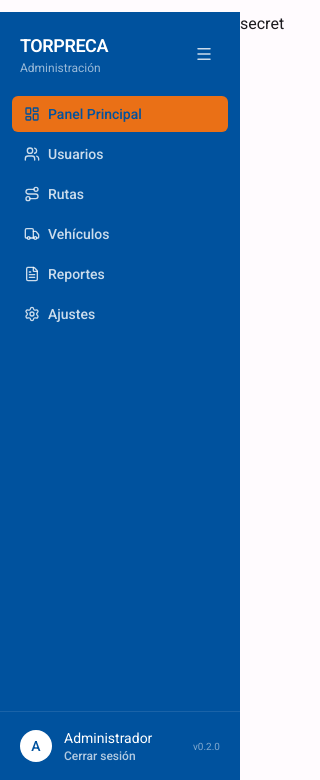
Test: ProtectedLayout › collapses the sidebar to icon-only when the toggle is clicked
Expected: the text "secret" is shown, [240, 14, 284, 33]
Expected: the text "TORPRECA" is shown, [20, 32, 108, 60]
Click the button named "Colapsar menú" at (204, 54), box [188, 38, 220, 70]
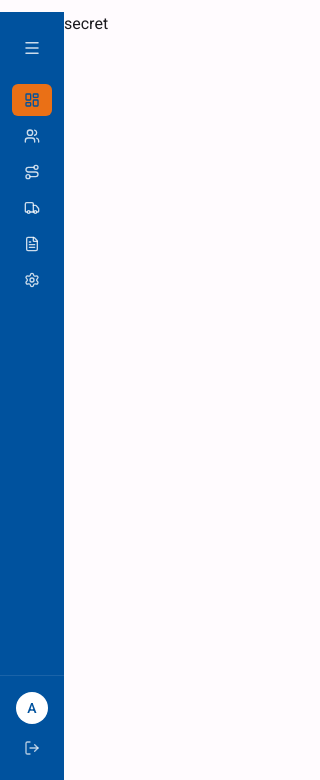
Expected: the link named "Usuarios" is shown, [24, 128, 40, 144]
Expected: the text "TORPRECA" is gone
Expected: the link "Usuarios" is gone
Click the button named "Expandir menú" at (32, 48), box [16, 32, 48, 64]
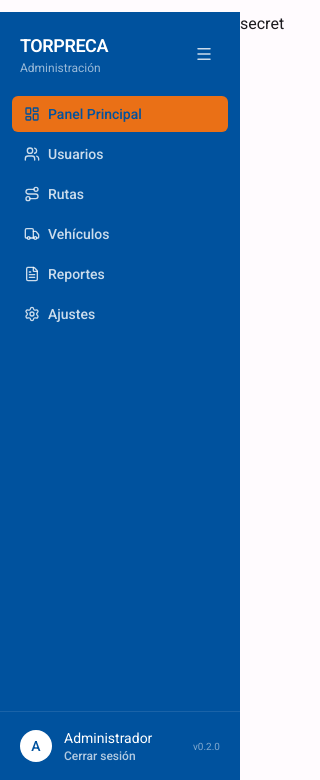
Expected: the text "TORPRECA" is shown, [20, 32, 108, 60]
